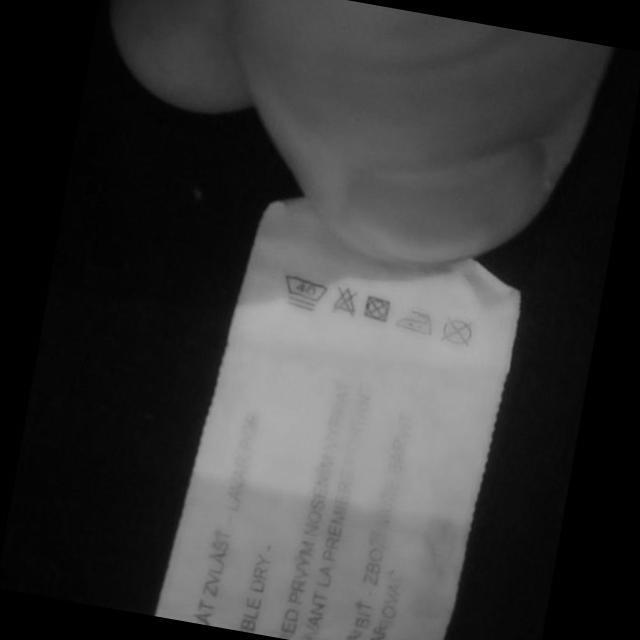40C: (276, 270, 331, 316)
DN_bleach: (331, 283, 362, 317)
DN_dry_clean: (439, 313, 477, 349)
DN_tumble_dry: (361, 292, 393, 323)
iron_medium: (394, 304, 438, 338)
